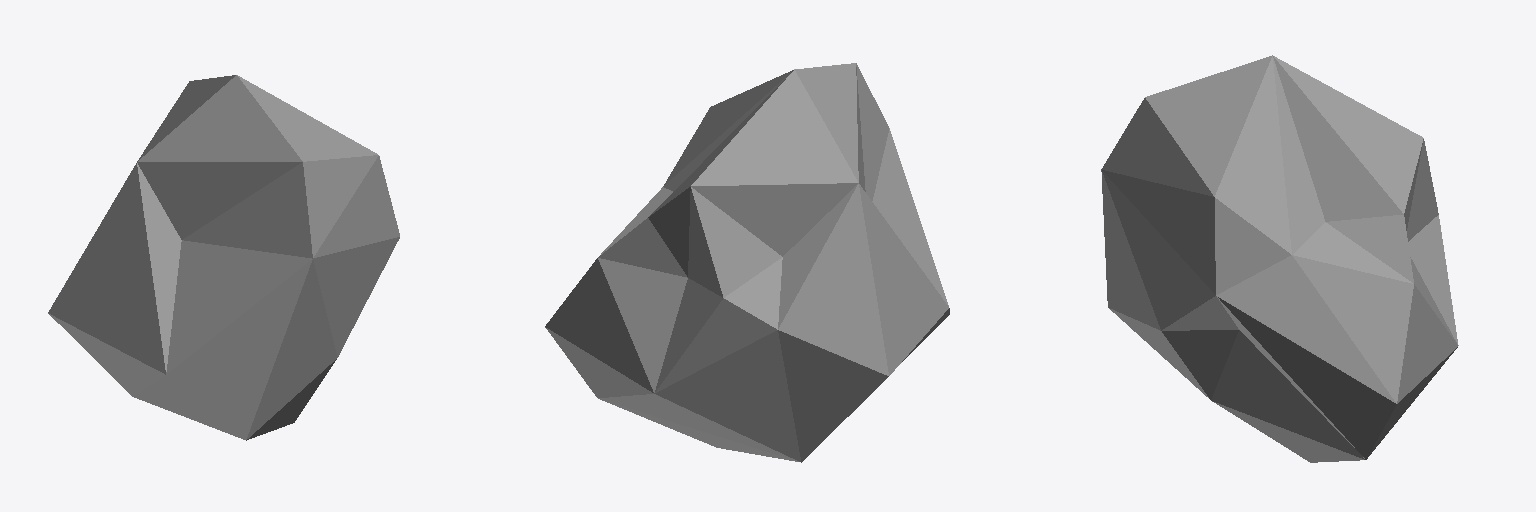
Rendered from rocks.obj.
3 renders of one model, left to right at view 1: azimuth 30°, elevation 25°; view 2: azimuth 150°, elevation 25°; view 3: azimuth 270°, elevation 25°, orthographic.
Visible parts, largest first — view 1: Cube; view 2: Cube; view 3: Cube.
Part boxes in pixels (x1,y1,x2,y2): Cube: (48,75,399,440); Cube: (545,63,949,462); Cube: (1101,55,1458,462).
Size of the model in its own units: 1.92 by 2.11 by 1.81.